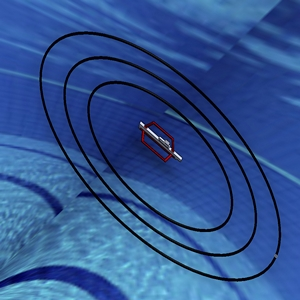circle: (29, 23, 290, 293)
submarine: (125, 110, 182, 169)
